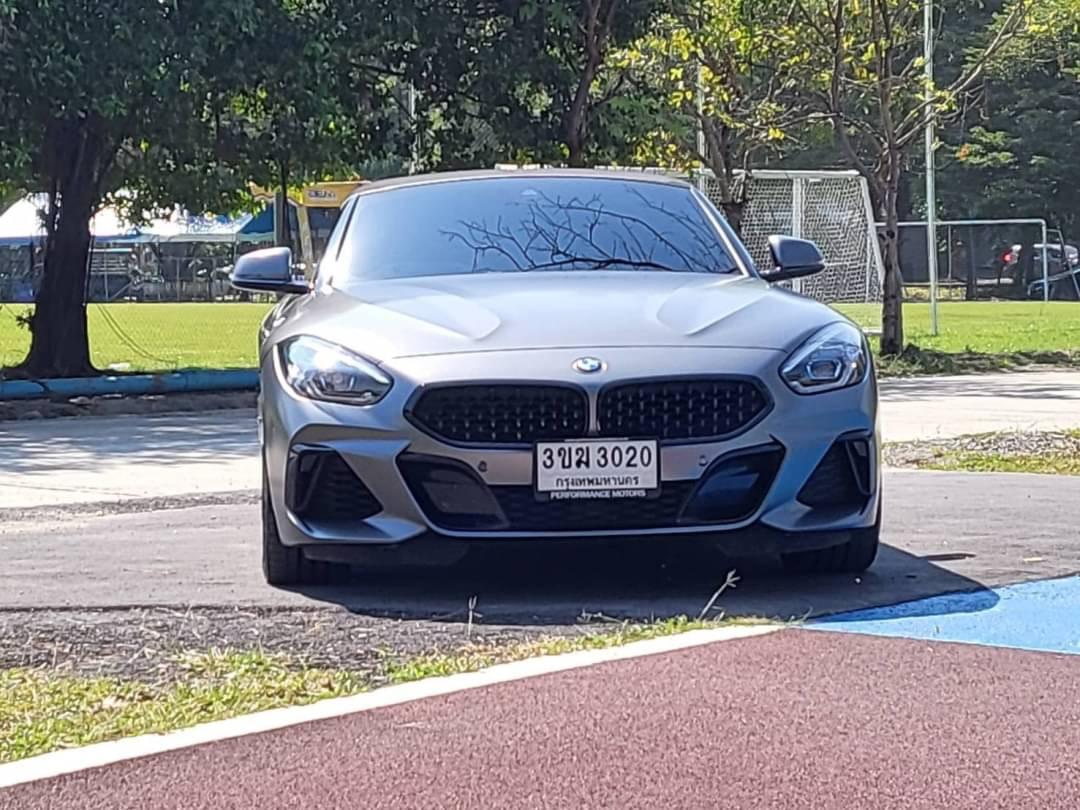license-plate: (534, 434, 662, 504)
